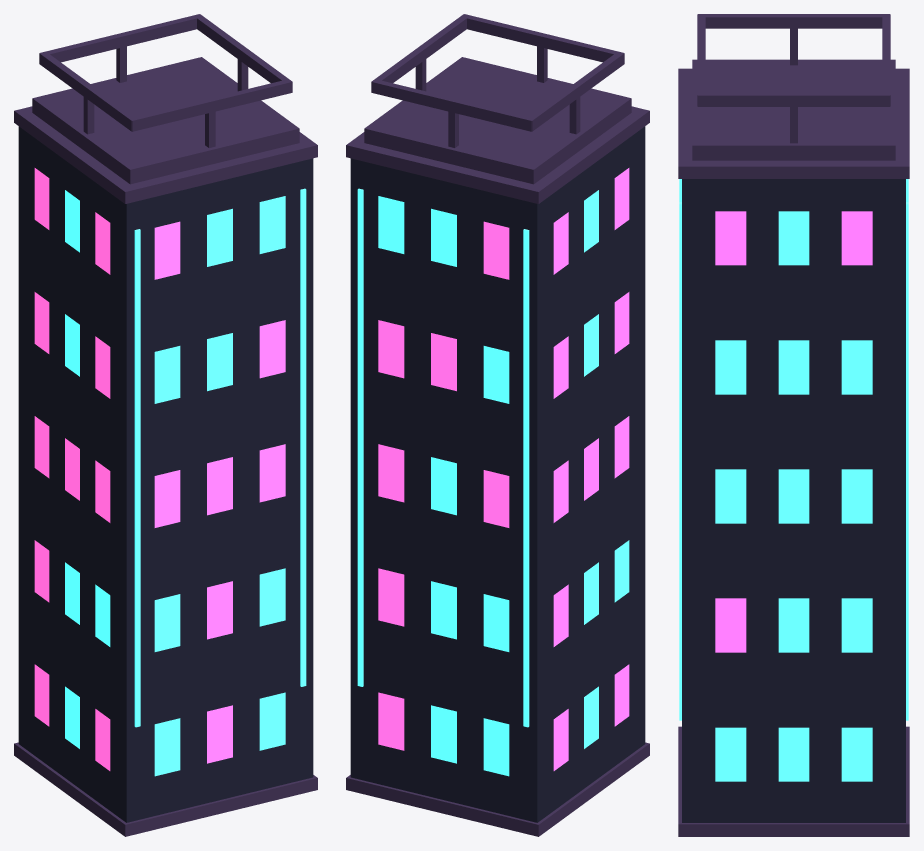
Rendered from neon-building-01.glb.
The picture shows the model from 3 angles, left to right: view 1: azimuth 30°, elevation 25°; view 2: azimuth 150°, elevation 25°; view 3: azimuth 270°, elevation 25°; orthographic projection. The views are drawn at different scales.
Visible parts, largest first — view 1: neon_building_01; view 2: neon_building_01; view 3: neon_building_01.
Part boxes in pixels (x1=…): neon_building_01: x1=14, y1=14, x2=317, y2=836; neon_building_01: x1=346, y1=14, x2=649, y2=836; neon_building_01: x1=678, y1=14, x2=909, y2=836.
Bounding box in the file's own units: 4 × 14 × 4.
